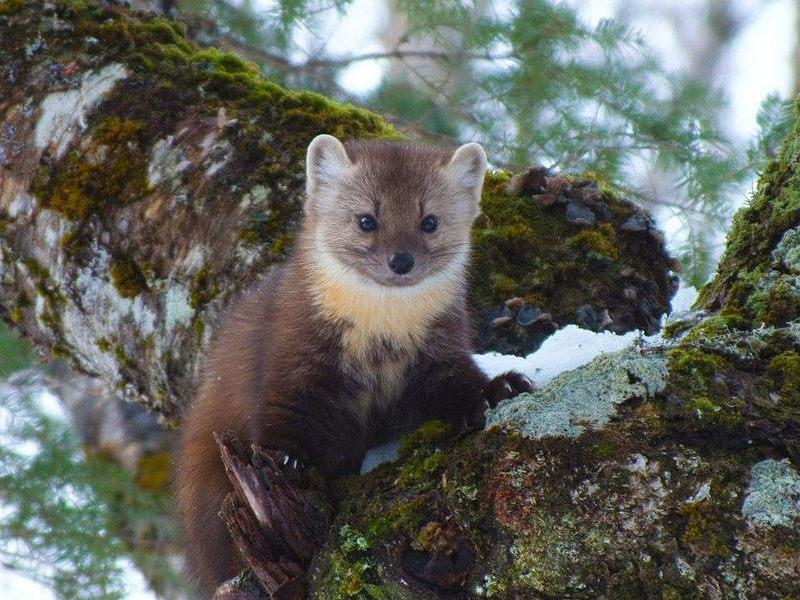minkish: (178, 130, 498, 594)
